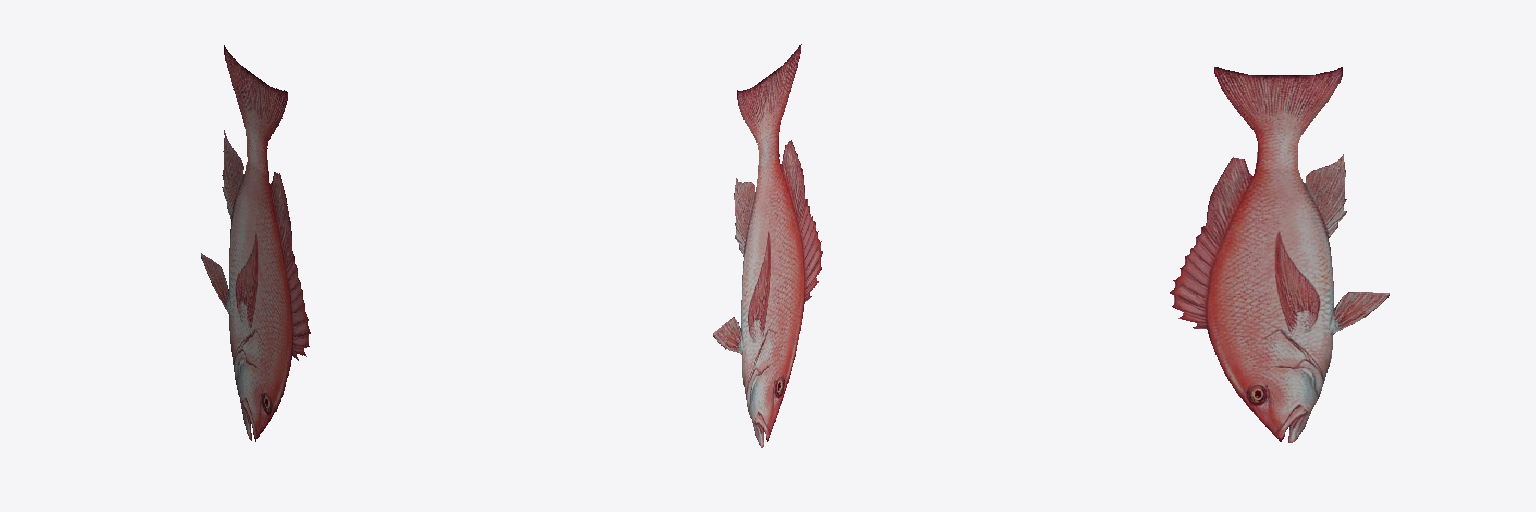
The picture shows the model from 3 angles: view 1: azimuth 30°, elevation 25°; view 2: azimuth 150°, elevation 25°; view 3: azimuth 270°, elevation 25°; orthographic projection.
Size of the model in its own units: 0.008 by 2 by 1.06.
Materials: 1 (1 with a texture image).